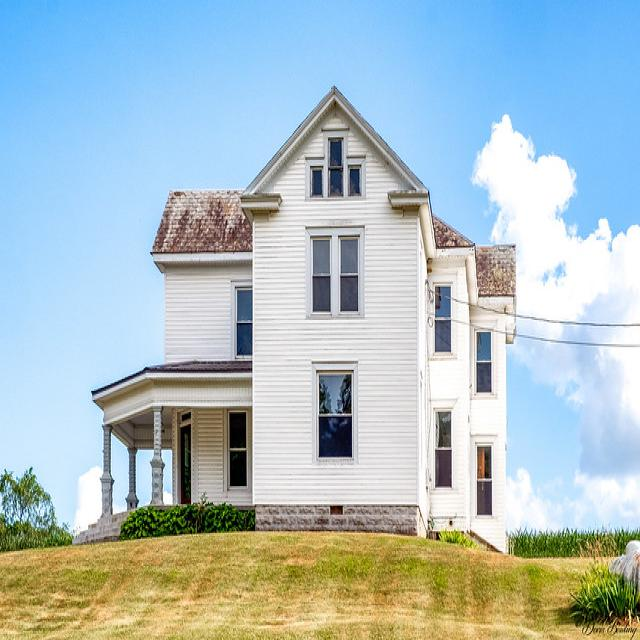building: (87, 76, 515, 559)
